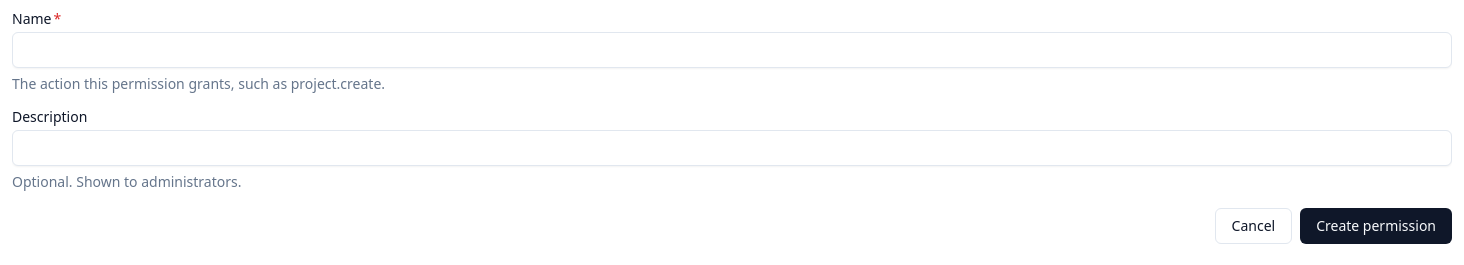
Test: PermissionForm — validation (FR-UI9) › requires the resource.action shape §5 uses
The image size is (1464, 265).
Type "notavalidname" into the field labelled "Name*" at (732, 50), box [12,32,1452,68]
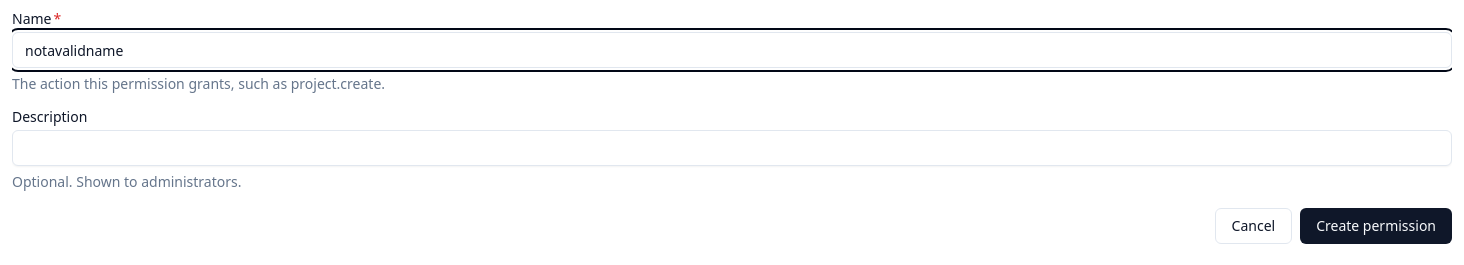
Click the button "Create permission" at (1376, 226), box [1300,208,1452,244]
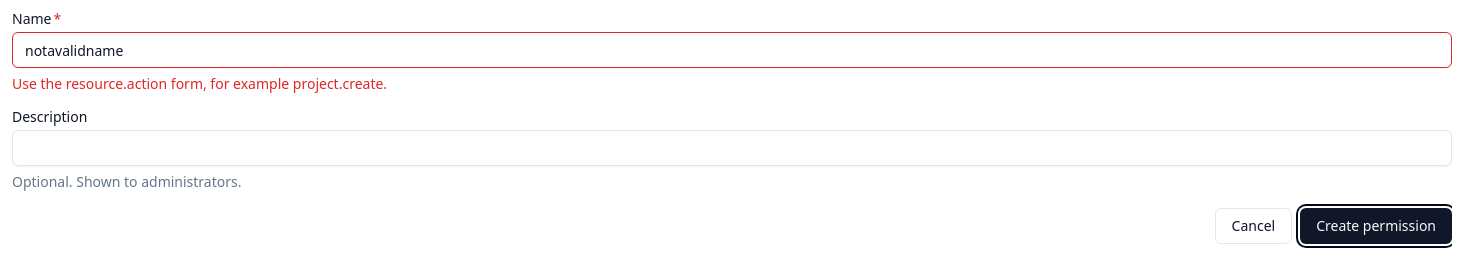
Now the message shows "resource.action form", box [12,74,387,93]
